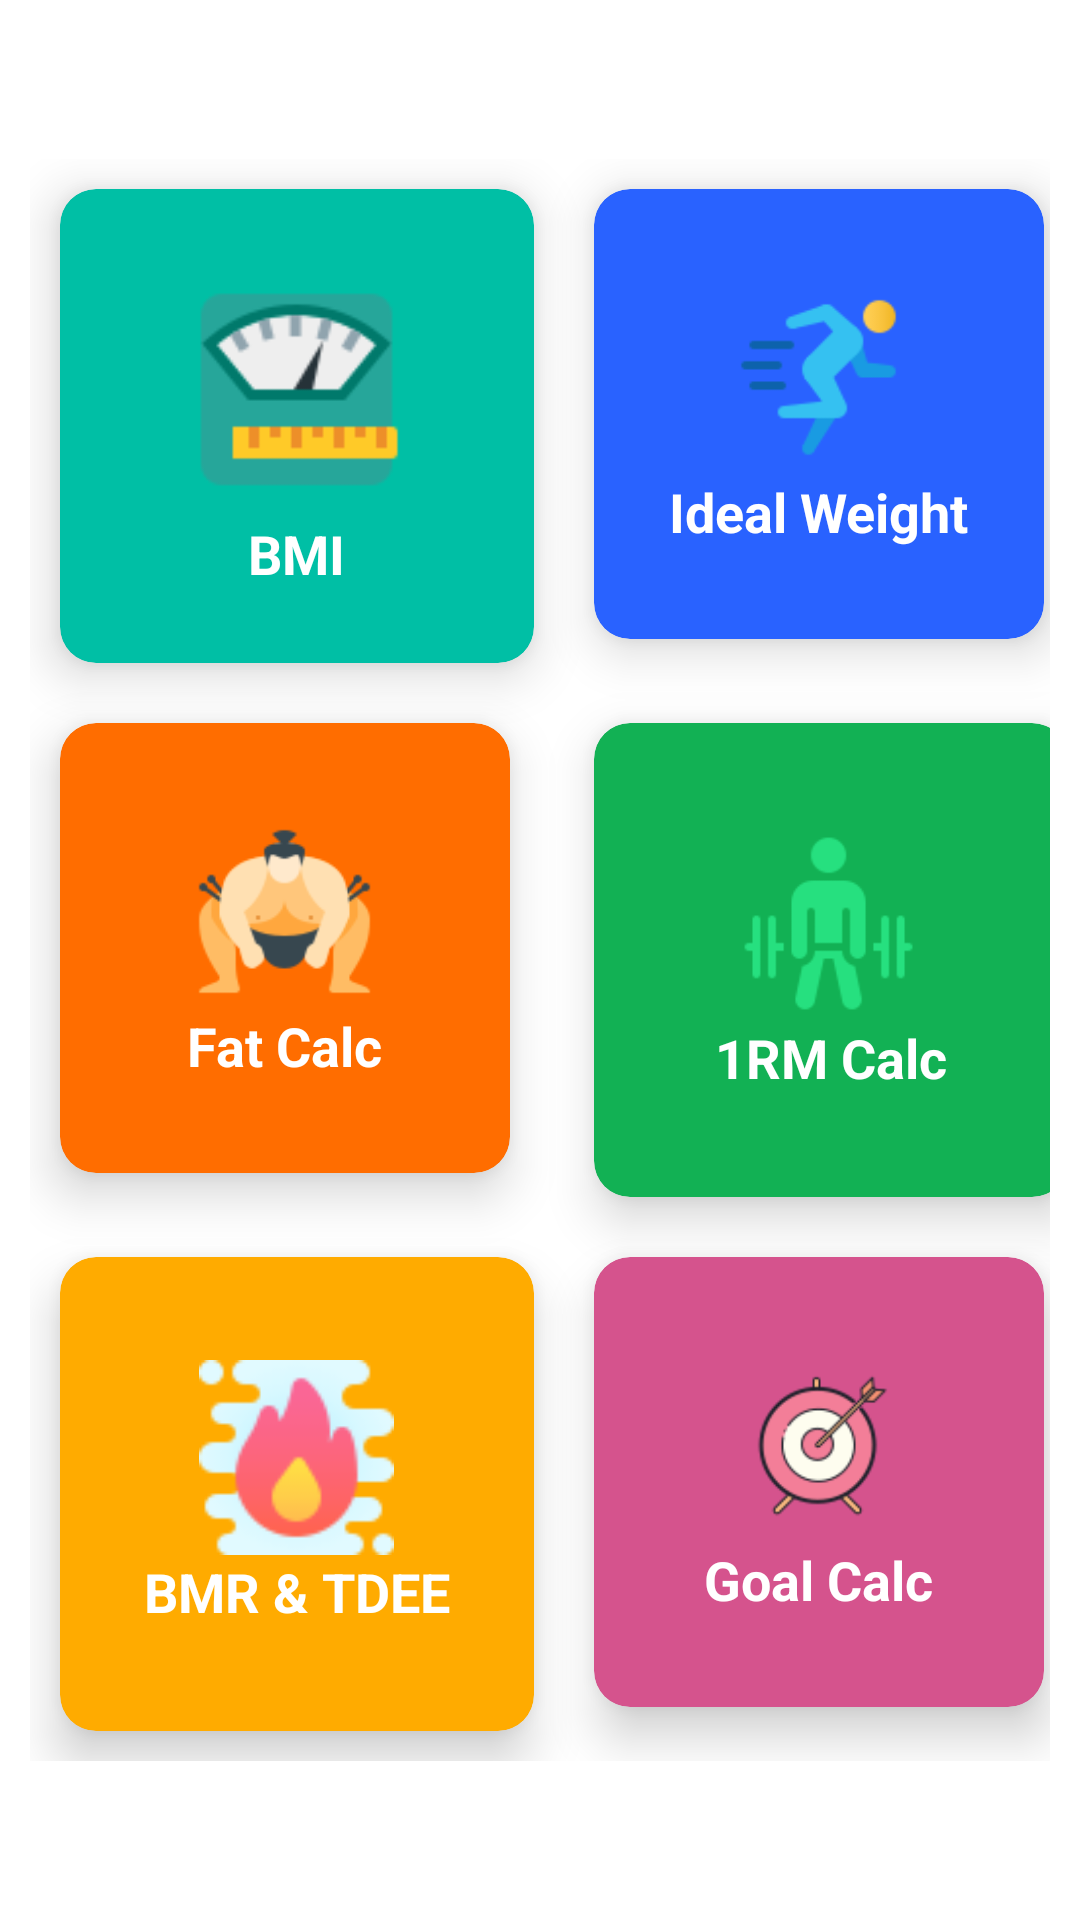

Named icons in this screenshot (1080 x 1920) and their bounding boxes, (x1, y1, x2, y2):
calorie: (199, 1360, 394, 1555)
deadlift: (745, 838, 912, 1009)
exercise: (741, 300, 896, 455)
